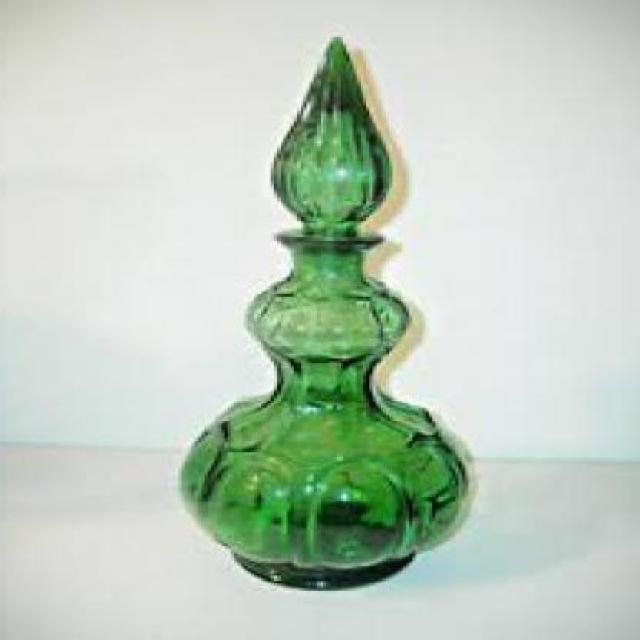GLASS: (186, 34, 472, 588)
